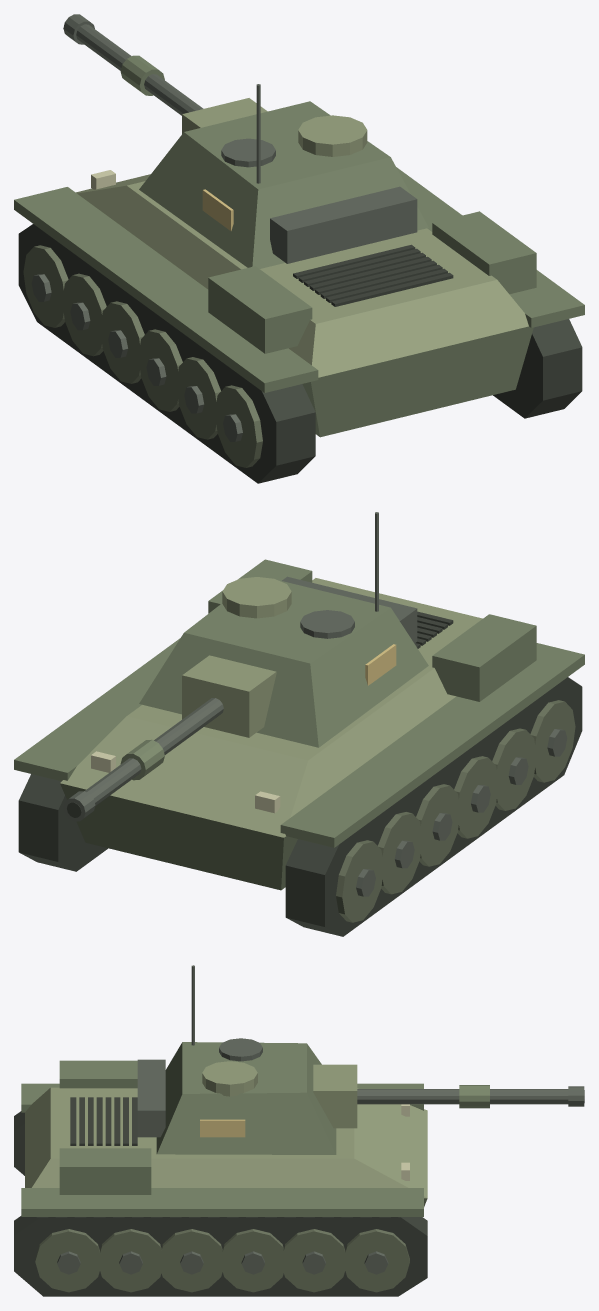
Rendered from tank.glb.
3 views of the same model, one above another, from view 1: azimuth 30°, elevation 25°; view 2: azimuth 150°, elevation 25°; view 3: azimuth 270°, elevation 25° (orthographic). The views are drawn at different scales.
Parts seen in each view (by area): view 1: Tank_Armor, Tank_ArmorLight, Tank_Tracks, TurretYaw_Armor, Tank_RoadWheels, TurretYaw_Steel, Tank_Steel, BarrelRecoil_Steel, TurretYaw_ArmorLight, BarrelRecoil_ArmorLight, BarrelRecoil_Armor, TurretYaw_TeamMarkings; view 2: Tank_Armor, Tank_ArmorLight, TurretYaw_Armor, Tank_Tracks, Tank_RoadWheels, BarrelRecoil_ArmorLight, BarrelRecoil_Steel, TurretYaw_Steel, Tank_Steel, TurretYaw_ArmorLight, BarrelRecoil_Armor, Tank_Headlights (+1 smaller); view 3: Tank_ArmorLight, Tank_Armor, Tank_RoadWheels, Tank_Tracks, TurretYaw_Armor, TurretYaw_Steel, BarrelRecoil_Steel, Tank_Steel, BarrelRecoil_ArmorLight, TurretYaw_ArmorLight, TurretYaw_TeamMarkings, BarrelRecoil_Armor.
Boxes of the visible parts, <box> form: Tank_Armor: <box>14,167,584,437</box>; Tank_ArmorLight: <box>76,174,528,377</box>; Tank_Tracks: <box>18,224,582,483</box>; TurretYaw_Armor: <box>139,101,428,268</box>; Tank_RoadWheels: <box>23,245,262,467</box>; TurretYaw_Steel: <box>221,84,417,263</box>; Tank_Steel: <box>31,274,242,441</box>; BarrelRecoil_Steel: <box>63,14,203,115</box>; TurretYaw_ArmorLight: <box>298,115,367,156</box>; BarrelRecoil_ArmorLight: <box>182,98,267,133</box>; BarrelRecoil_Armor: <box>120,55,164,95</box>; TurretYaw_TeamMarkings: <box>202,189,233,230</box>; Tank_Armor: <box>14,559,584,890</box>; Tank_ArmorLight: <box>60,578,482,837</box>; TurretYaw_Armor: <box>139,575,428,747</box>; Tank_Tracks: <box>18,611,582,936</box>; Tank_RoadWheels: <box>336,700,575,922</box>; BarrelRecoil_ArmorLight: <box>182,655,276,737</box>; BarrelRecoil_Steel: <box>63,698,223,821</box>; TurretYaw_Steel: <box>282,512,417,643</box>; Tank_Steel: <box>356,729,567,896</box>; TurretYaw_ArmorLight: <box>222,577,291,618</box>; BarrelRecoil_Armor: <box>120,739,164,780</box>; Tank_Headlights: <box>91,751,280,813</box>; Tank_ArmorLight: <box>25,1087,427,1198</box>; Tank_Armor: <box>21,1060,427,1216</box>; Tank_RoadWheels: <box>35,1229,409,1292</box>; Tank_Tracks: <box>14,1097,427,1296</box>; TurretYaw_Armor: <box>156,1042,336,1154</box>; TurretYaw_Steel: <box>137,965,262,1137</box>; BarrelRecoil_Steel: <box>357,1086,584,1106</box>; Tank_Steel: <box>37,1217,409,1274</box>; BarrelRecoil_ArmorLight: <box>313,1064,357,1128</box>; TurretYaw_ArmorLight: <box>202,1061,257,1096</box>; TurretYaw_TeamMarkings: <box>200,1119,245,1137</box>; BarrelRecoil_Armor: <box>459,1085,489,1108</box>.
Size of the model in its own units: 4.18 by 3.73 by 7.8.
